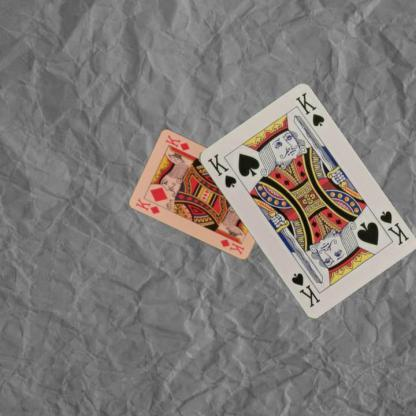Kd: (133, 196, 161, 216)
Ks: (376, 208, 410, 247), (204, 151, 238, 189)
